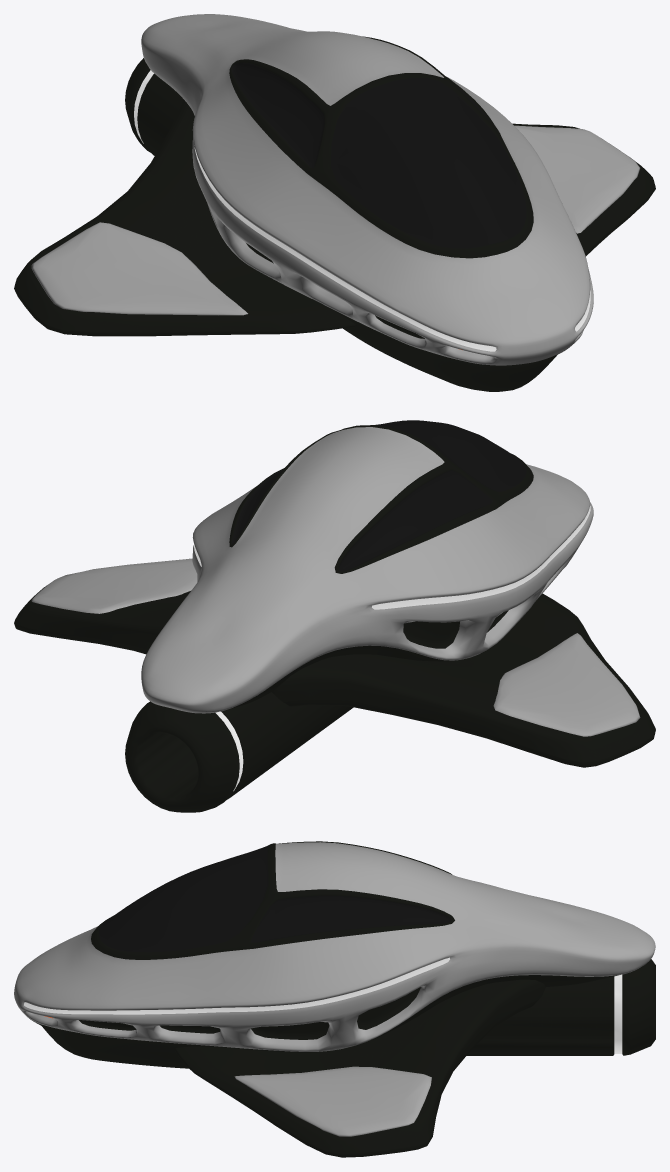
The model's file is spaceship2.glb.
3 views of the same model, one above another, from view 1: azimuth 30°, elevation 25°; view 2: azimuth 150°, elevation 25°; view 3: azimuth 270°, elevation 25° (orthographic). The views are drawn at different scales.
Parts seen in each view (by area): view 1: Spaceship; view 2: Spaceship; view 3: Spaceship.
Boxes of the visible parts, x1,y1,x2,y2 form: Spaceship: [14, 14, 655, 391]; Spaceship: [14, 420, 655, 812]; Spaceship: [14, 841, 655, 1157].
Size of the model in its own units: 1.73 by 0.634 by 1.85.
Materials: 2 (1 with a texture image).
